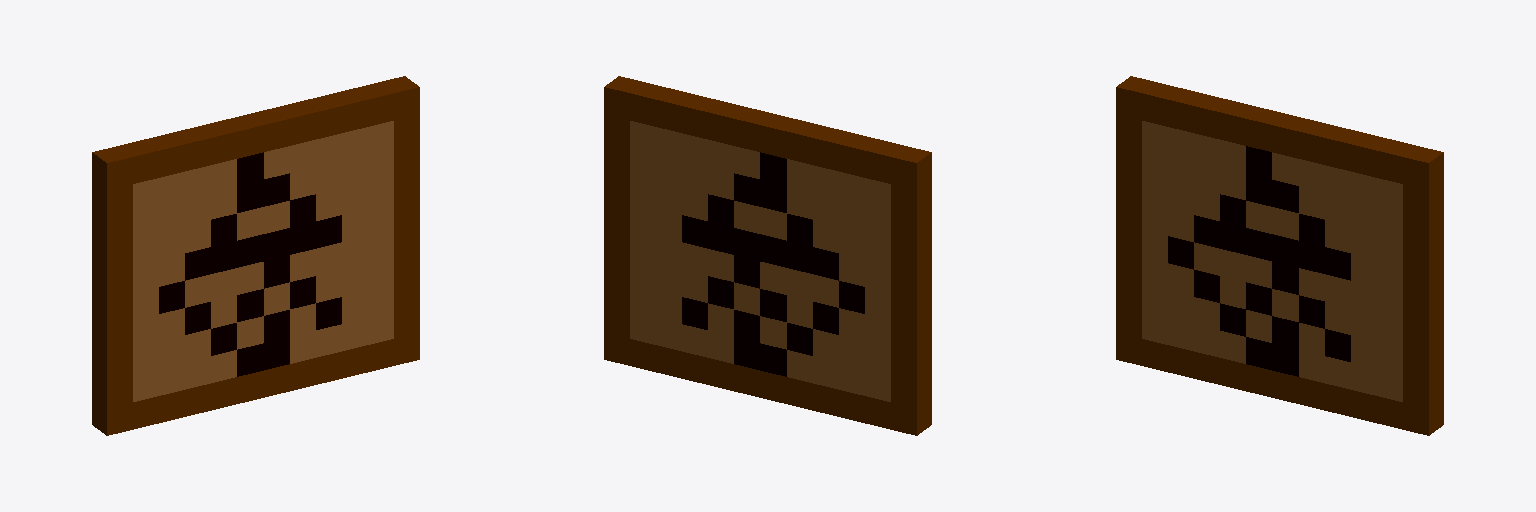
3 views of the same model, side by side, from view 1: azimuth 30°, elevation 25°; view 2: azimuth 150°, elevation 25°; view 3: azimuth 330°, elevation 25° (orthographic).
Visible parts, largest first — view 1: MonkMarking_35; view 2: MonkMarking_35; view 3: MonkMarking_35.
Part boxes in pixels (x1,y1,x2,y2): MonkMarking_35: (92, 76, 419, 435); MonkMarking_35: (604, 76, 931, 435); MonkMarking_35: (1116, 76, 1443, 435).
Bounding box in the file's own units: 1.2 × 1 × 0.1.
1 materials, 1 textured.